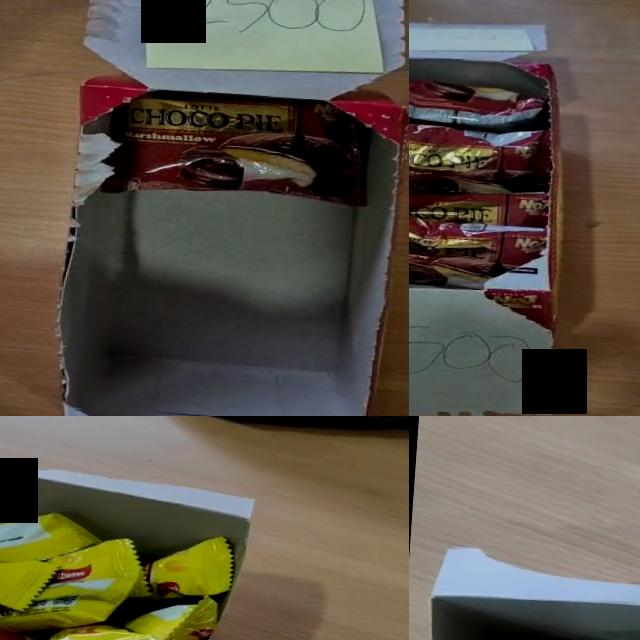Ahh: (38, 539, 139, 605), (133, 537, 232, 601), (0, 513, 96, 562), (0, 595, 116, 632), (122, 596, 216, 640), (0, 560, 52, 609), (47, 624, 151, 640)
Chocopie: (99, 86, 374, 210), (409, 198, 549, 294), (409, 115, 550, 201), (409, 172, 549, 229), (409, 75, 547, 131)
